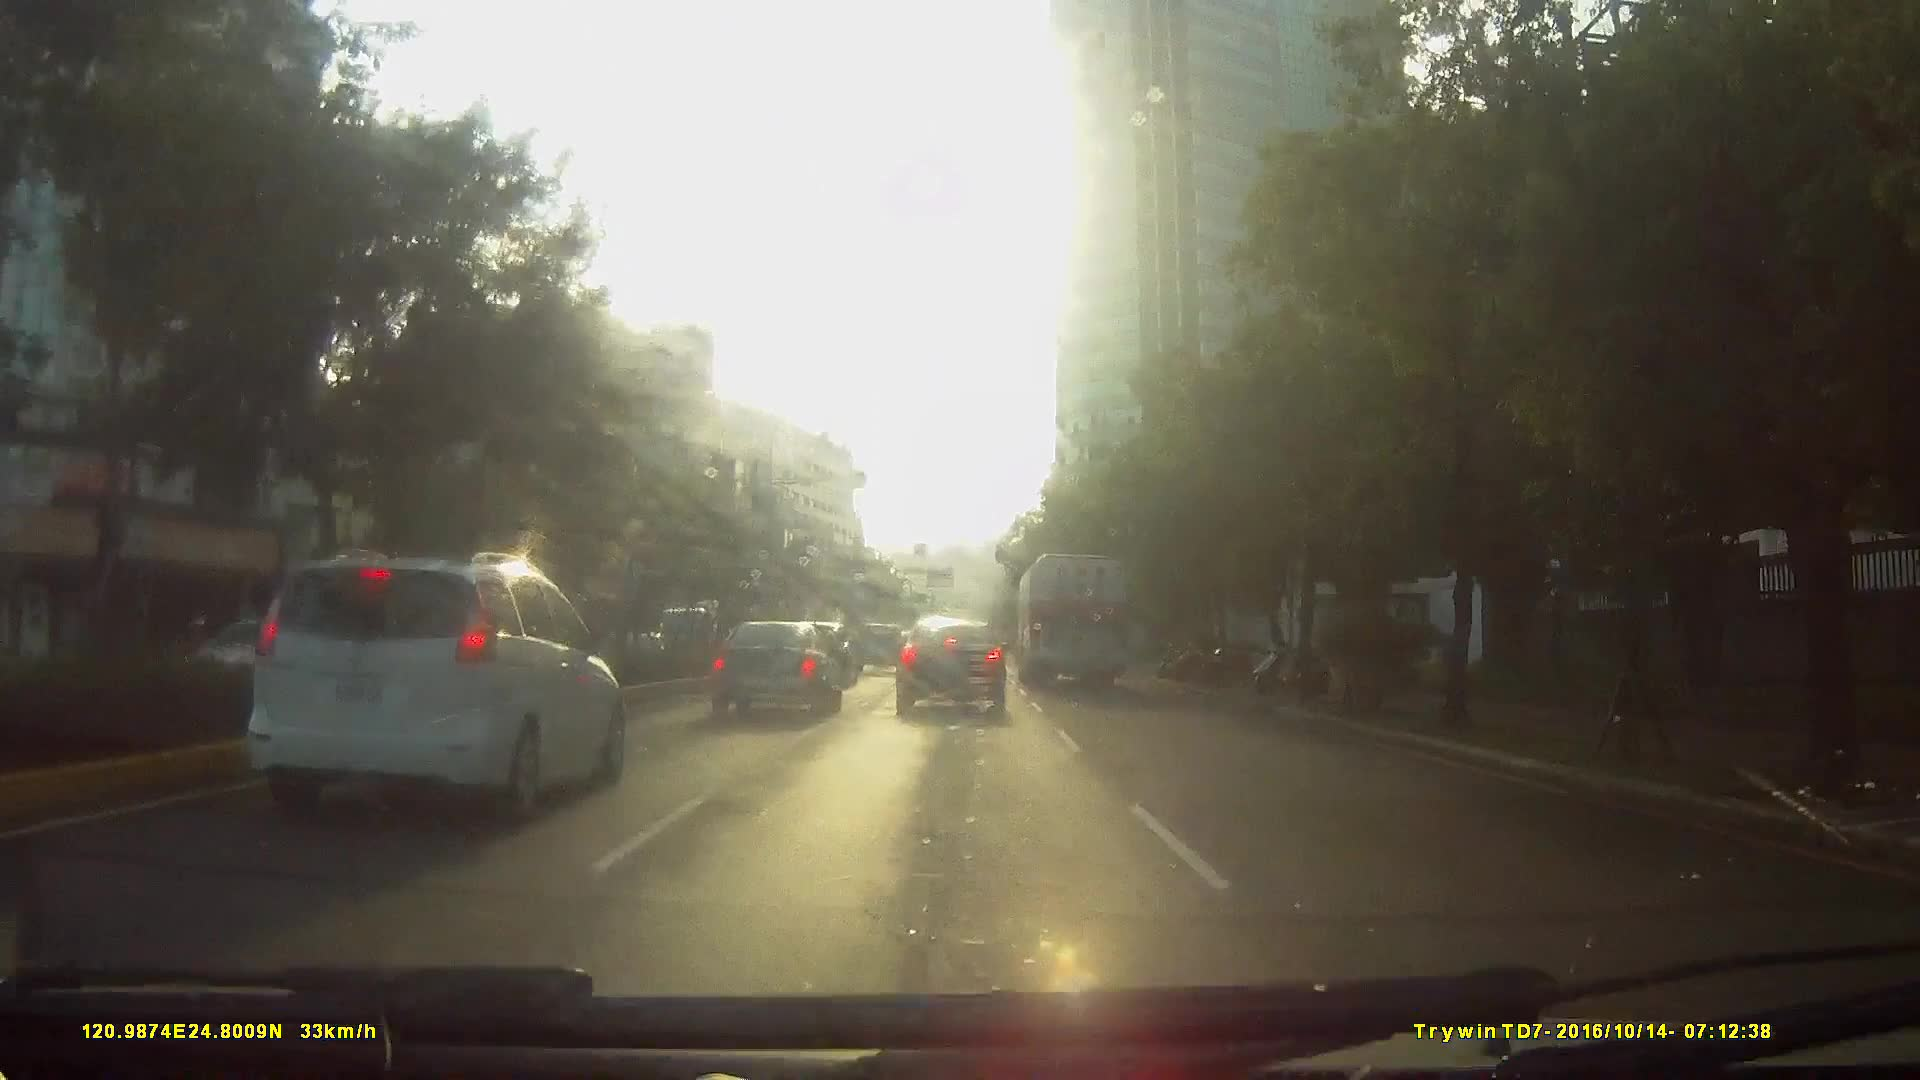vehicle: (251, 556, 684, 868), (218, 545, 636, 831), (1014, 547, 1131, 688), (705, 615, 847, 717), (895, 608, 1010, 716), (849, 616, 906, 675)
